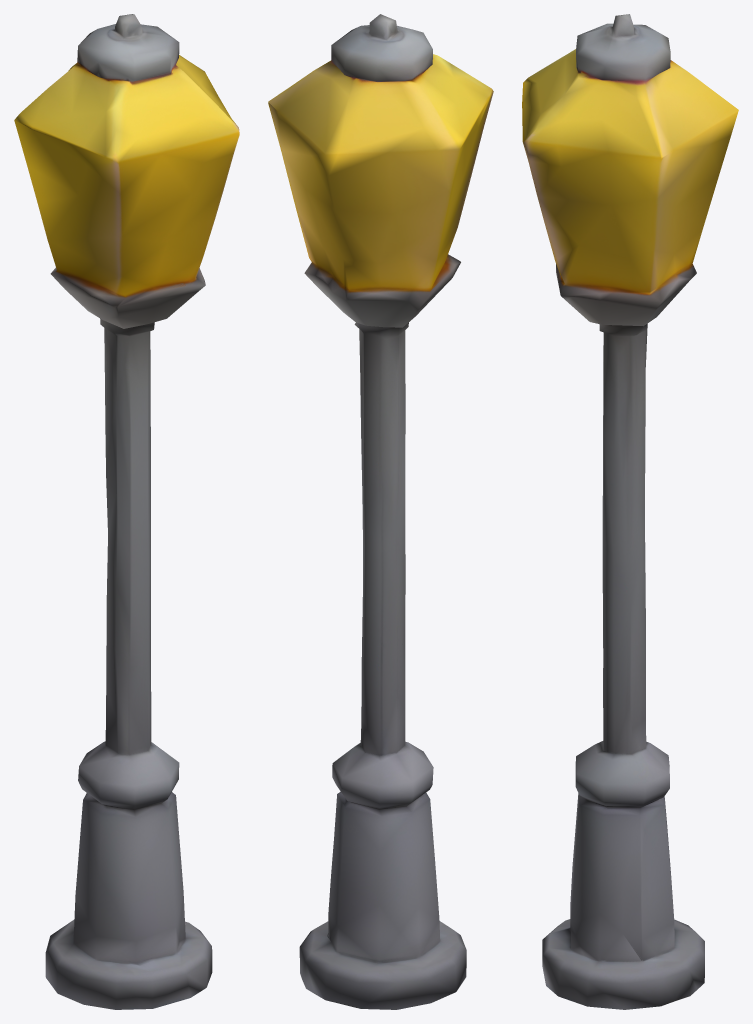
The model's file is lamp_post.glb.
3 renders of one model, left to right at view 1: azimuth 30°, elevation 25°; view 2: azimuth 150°, elevation 25°; view 3: azimuth 270°, elevation 25°, orthographic.
Parts seen in each view (by area): view 1: tripo_node_01146a5e-5c34-4de9-b5c8-7a7ee3793ba3; view 2: tripo_node_01146a5e-5c34-4de9-b5c8-7a7ee3793ba3; view 3: tripo_node_01146a5e-5c34-4de9-b5c8-7a7ee3793ba3.
Part boxes in pixels (bbox=[...]): tripo_node_01146a5e-5c34-4de9-b5c8-7a7ee3793ba3: bbox=[14, 14, 239, 1009]; tripo_node_01146a5e-5c34-4de9-b5c8-7a7ee3793ba3: bbox=[268, 14, 493, 1009]; tripo_node_01146a5e-5c34-4de9-b5c8-7a7ee3793ba3: bbox=[522, 14, 738, 1009].
Bounding box in the file's own units: 0.2096 × 1 × 0.2049.
Materials: 1 (1 with a texture image).
